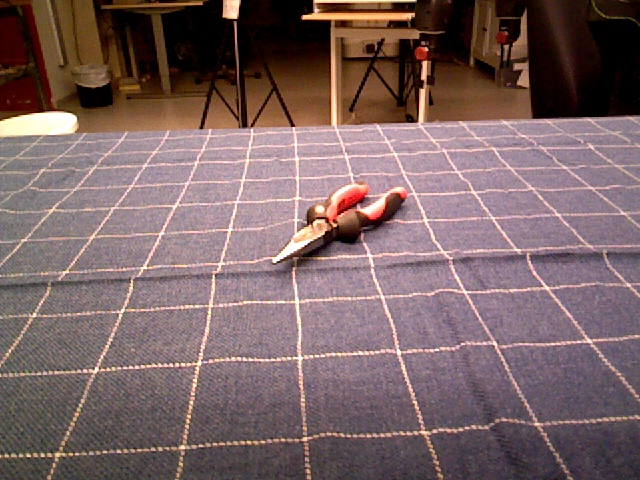plier1: (270, 181, 409, 265)
